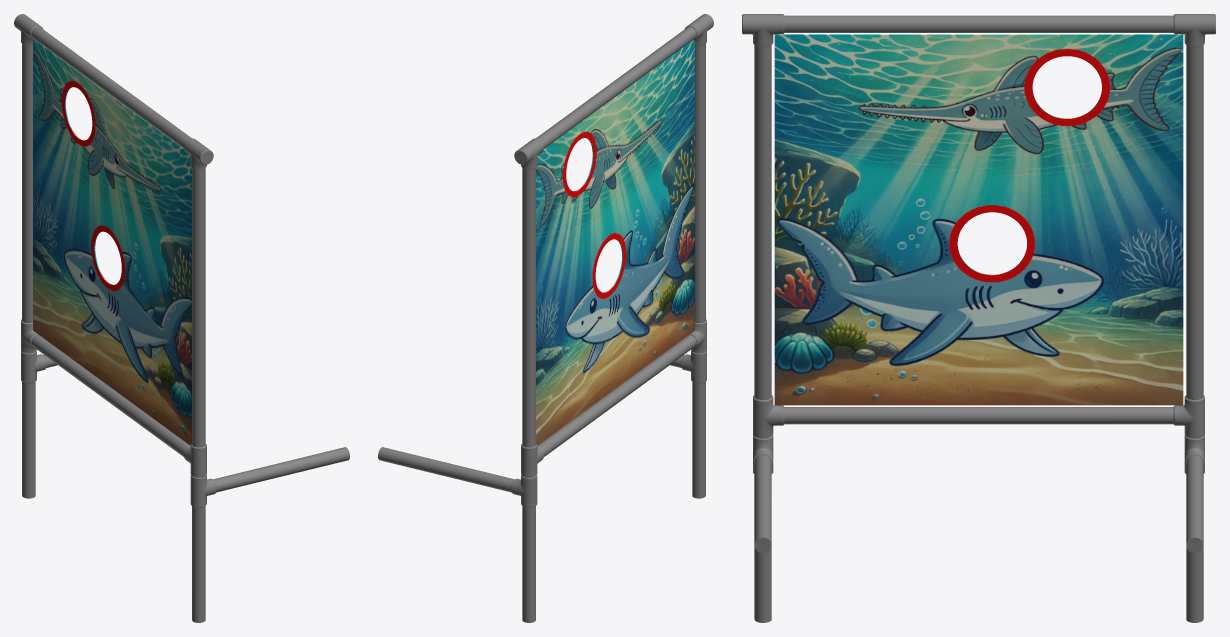
The model's file is torpedo.dae.
3 renders of one model, left to right at view 1: azimuth 30°, elevation 25°; view 2: azimuth 150°, elevation 25°; view 3: azimuth 270°, elevation 25°, orthographic. The views are drawn at different scales.
Visible parts, largest first — view 1: torpedo_map, torpedo_frame; view 2: torpedo_map, torpedo_frame; view 3: torpedo_map, torpedo_frame.
Part boxes in pixels (box(x1,y1,x2,y2)): torpedo_map: box(33, 40, 191, 445); torpedo_frame: box(14, 14, 349, 622); torpedo_map: box(536, 40, 694, 445); torpedo_frame: box(378, 14, 713, 622); torpedo_map: box(774, 34, 1183, 405); torpedo_frame: box(742, 14, 1215, 622).
Bounding box in the file's own units: 33.33 × 97.92 × 69.6.
Materials: 2 (1 with a texture image).
